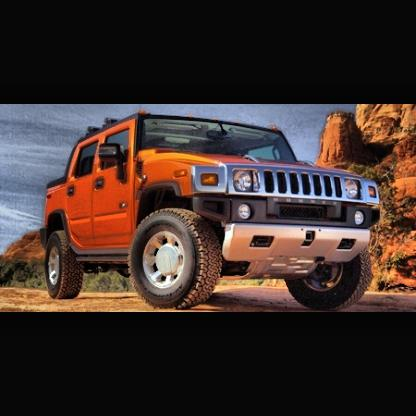HUMMER H3T Crew Cab 2010: (18, 106, 409, 313)
